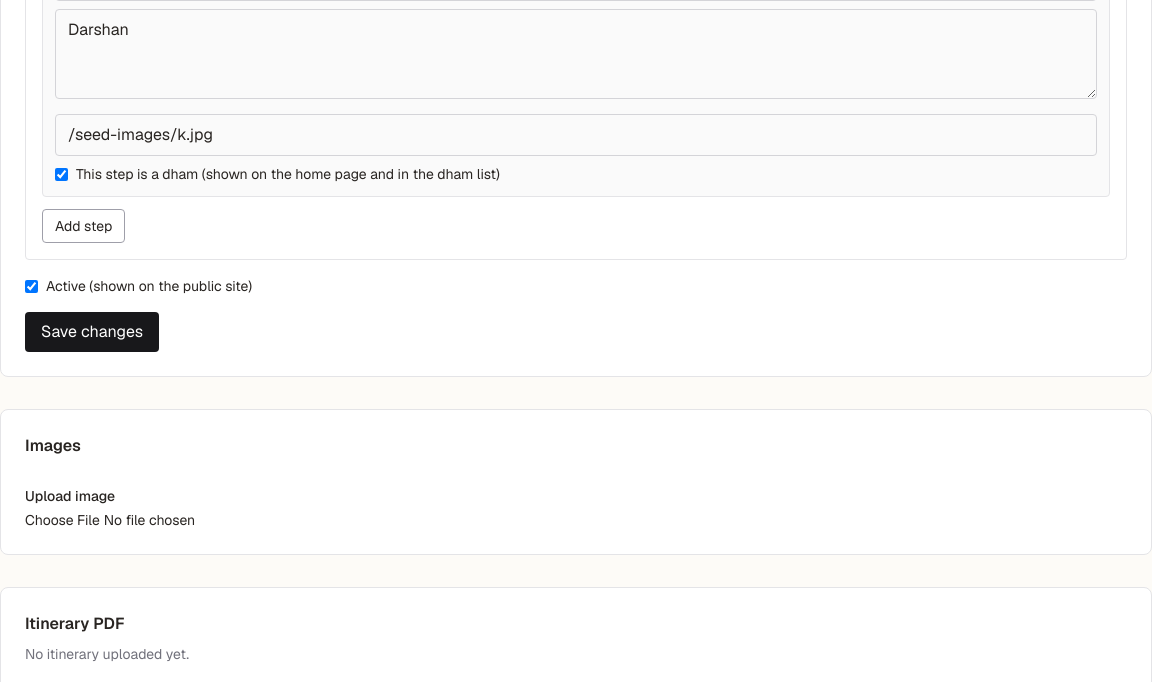
it: YatraAdminForm › shows the server's error message
(page scrolled)
Step 1. Click the button "Save changes" → (92, 332), box x1=25 y1=312 x2=159 y2=352
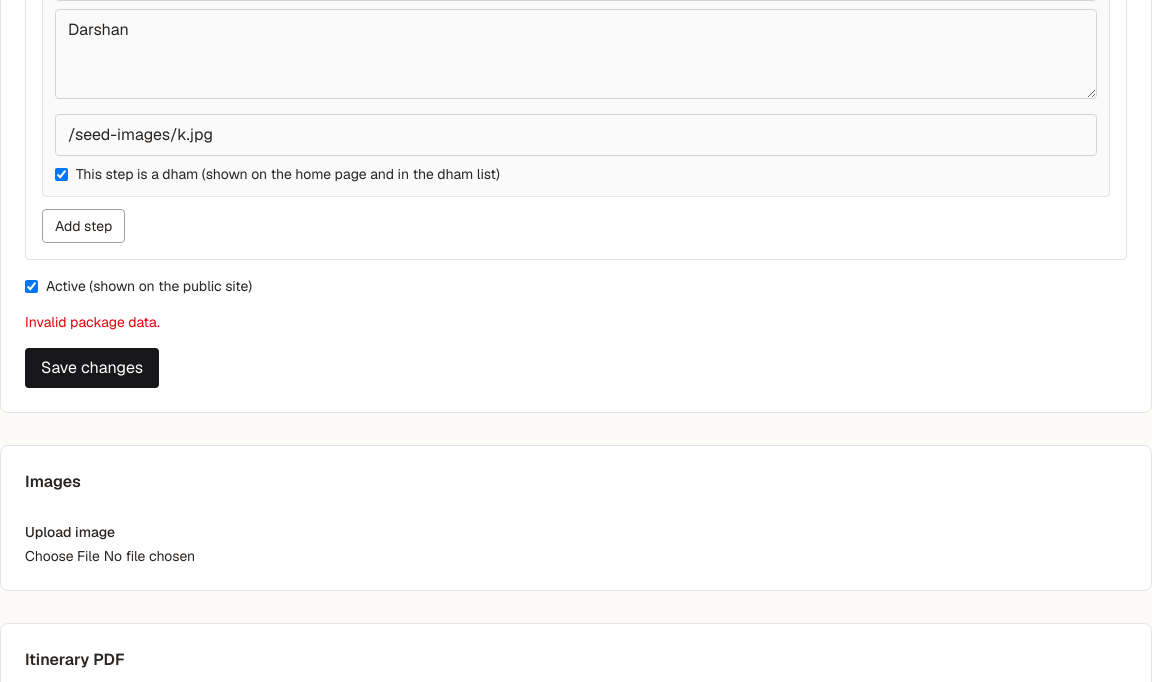
Result: the message reads "Invalid package data." at x1=25 y1=313 x2=160 y2=331
